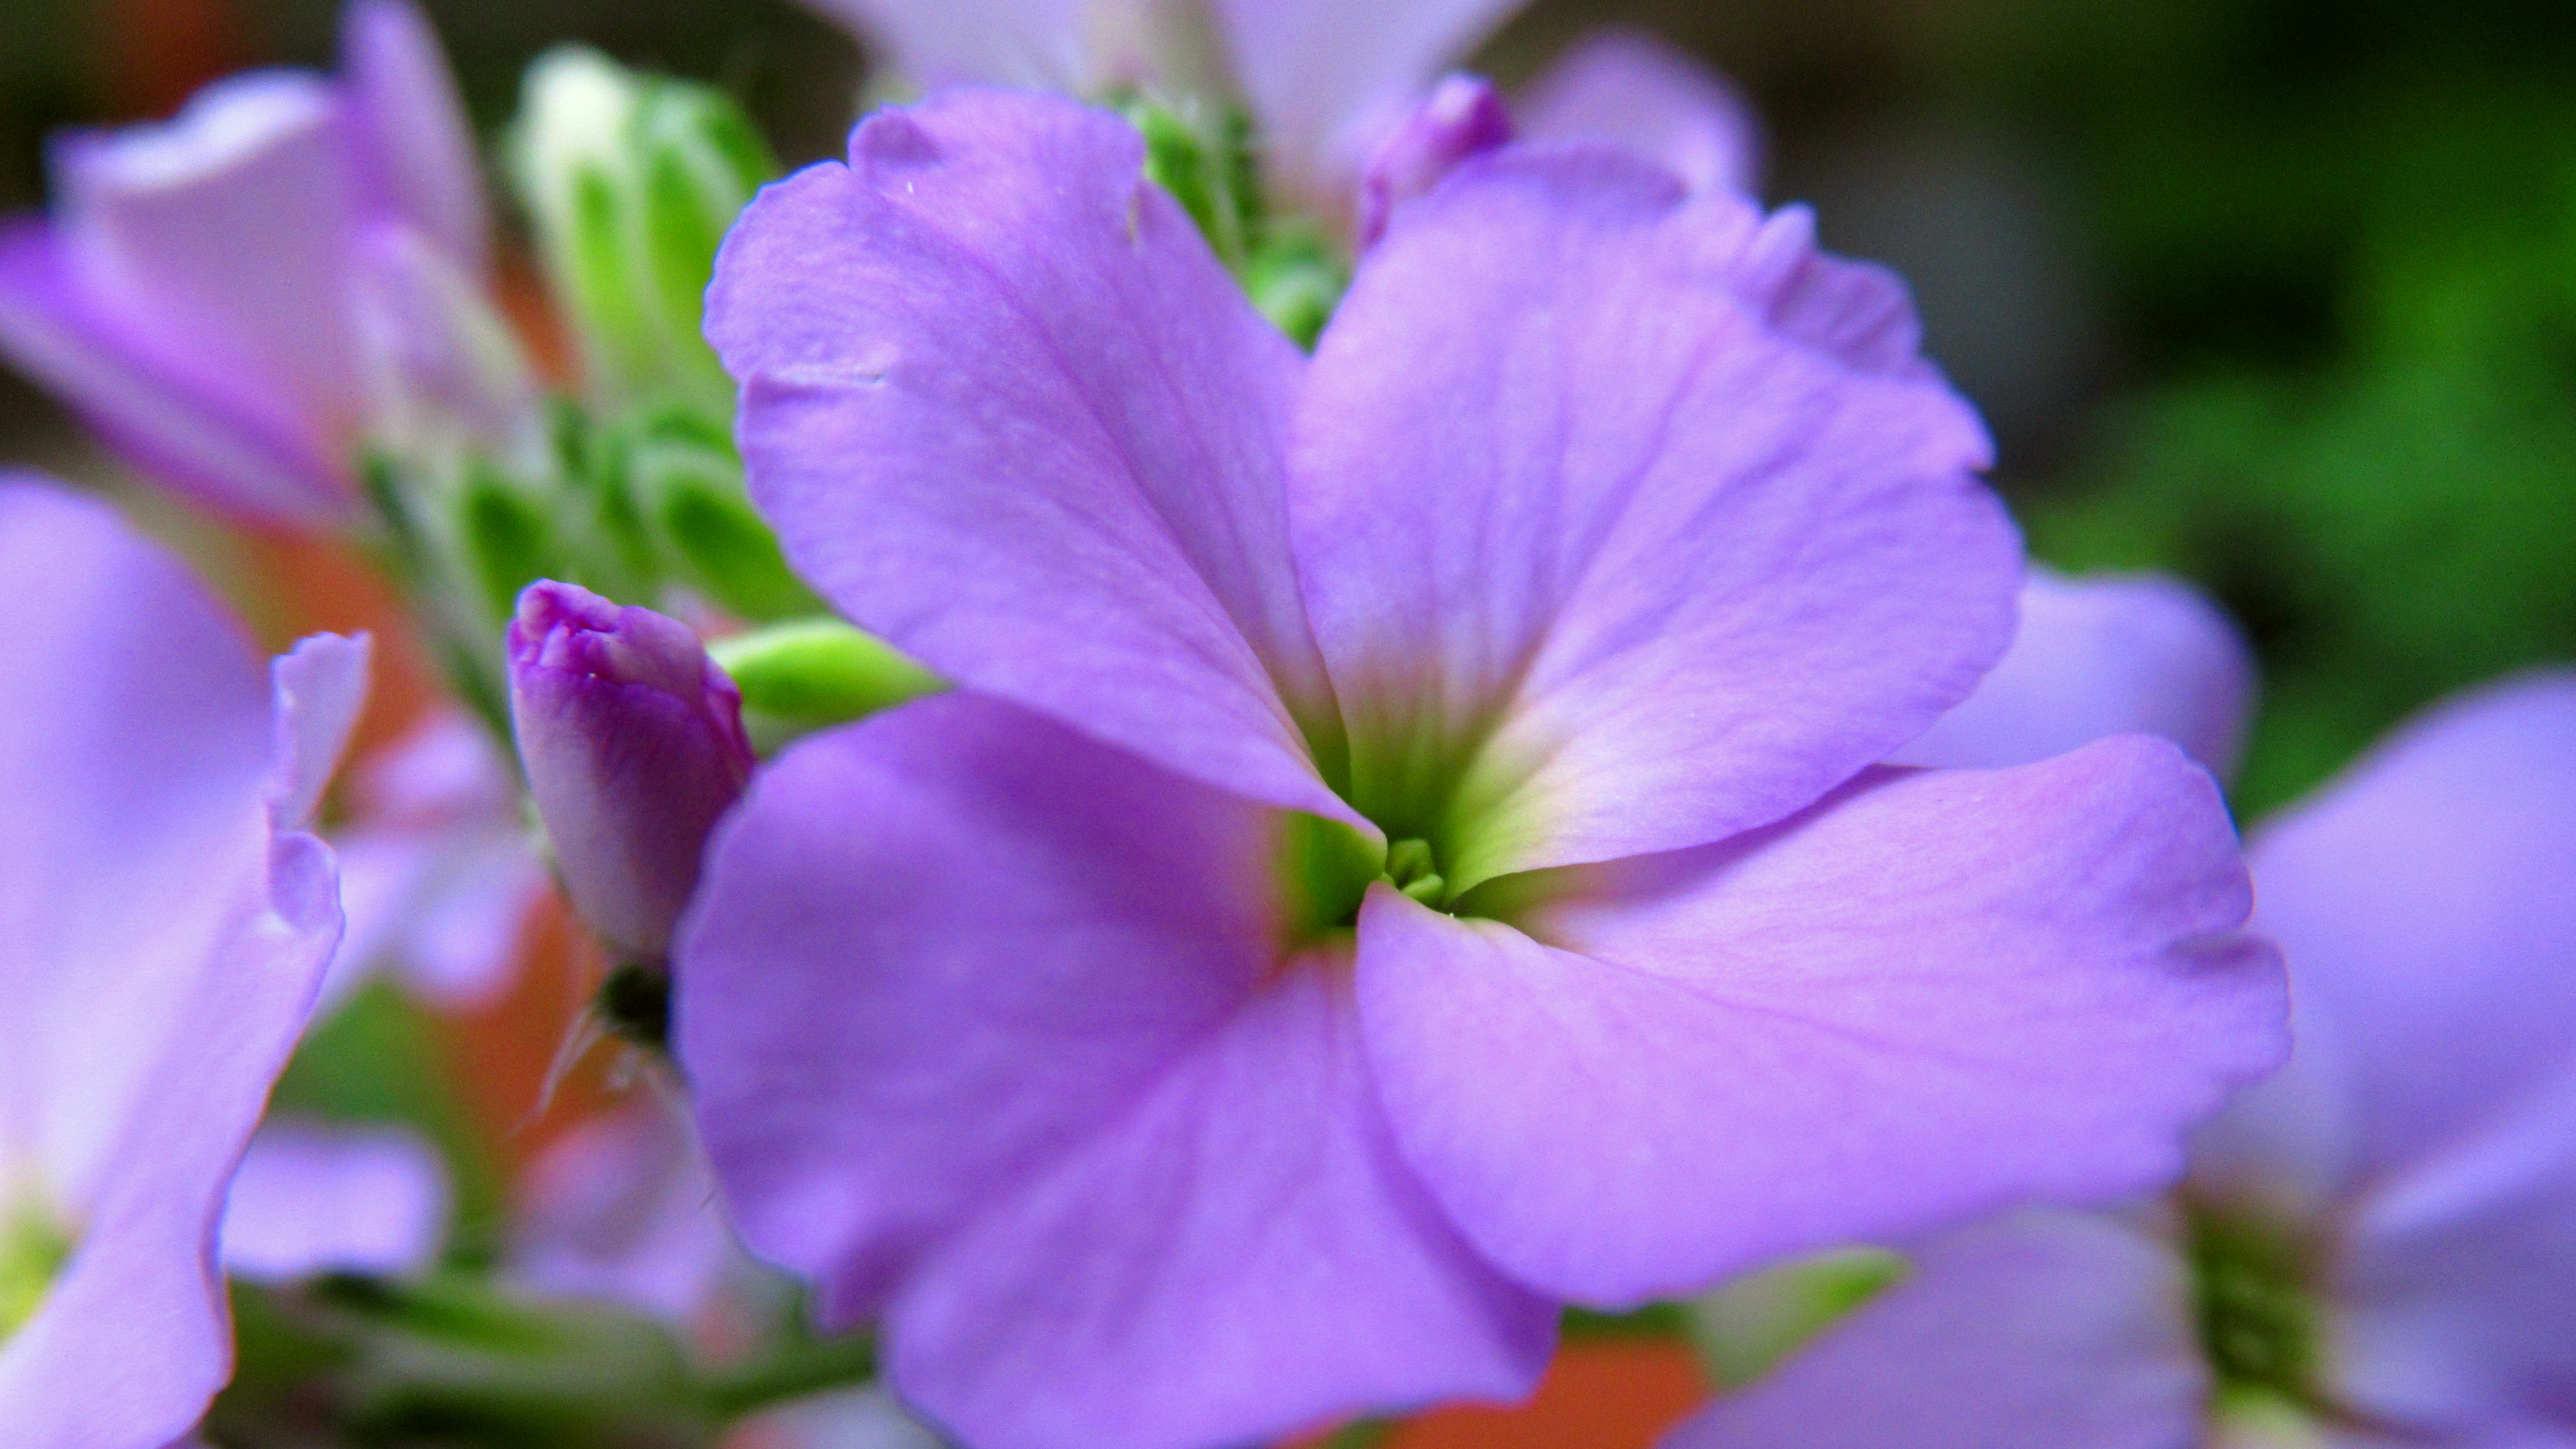violet: (694, 127, 2358, 1419)
